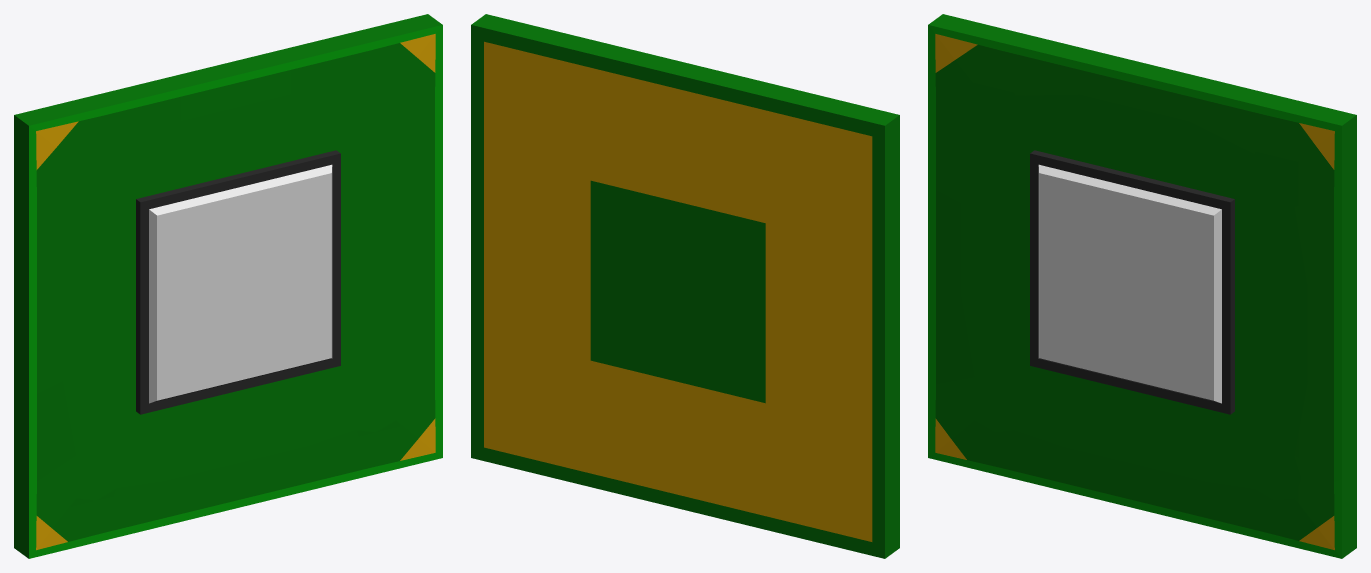
The model's file is s423_1-intel.fbx.
The picture shows the model from 3 angles, left to right: view 1: azimuth 30°, elevation 25°; view 2: azimuth 150°, elevation 25°; view 3: azimuth 330°, elevation 25°; orthographic projection.
Parts seen in each view (by area): view 1: Plane.001; view 2: Plane.001; view 3: Plane.001.
Boxes of the visible parts, box(x1,y1,x2,y2) form: Plane.001: box(14, 14, 442, 558); Plane.001: box(471, 14, 899, 558); Plane.001: box(928, 14, 1356, 558).
Bounding box in the file's own units: 34.74 × 34.74 × 3.4.
